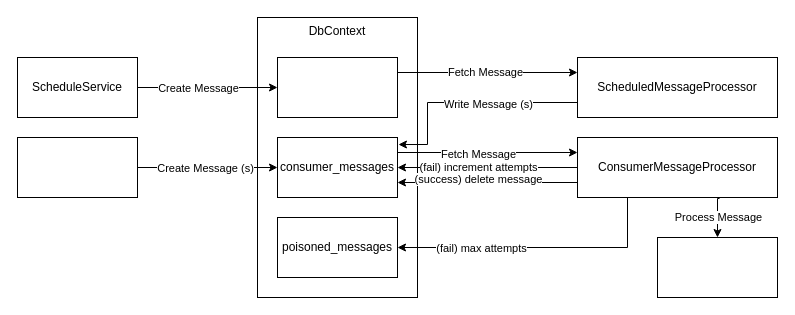
Some shapes in this 795 by 315 pixel diagram are drawn without their labels. Here are the shapes that lost their labels. From the top down, the box of each, then its label:
(276, 56, 398, 118): scheduled_messages
(16, 136, 138, 198): ProducerService
(656, 236, 778, 298): Consumers
